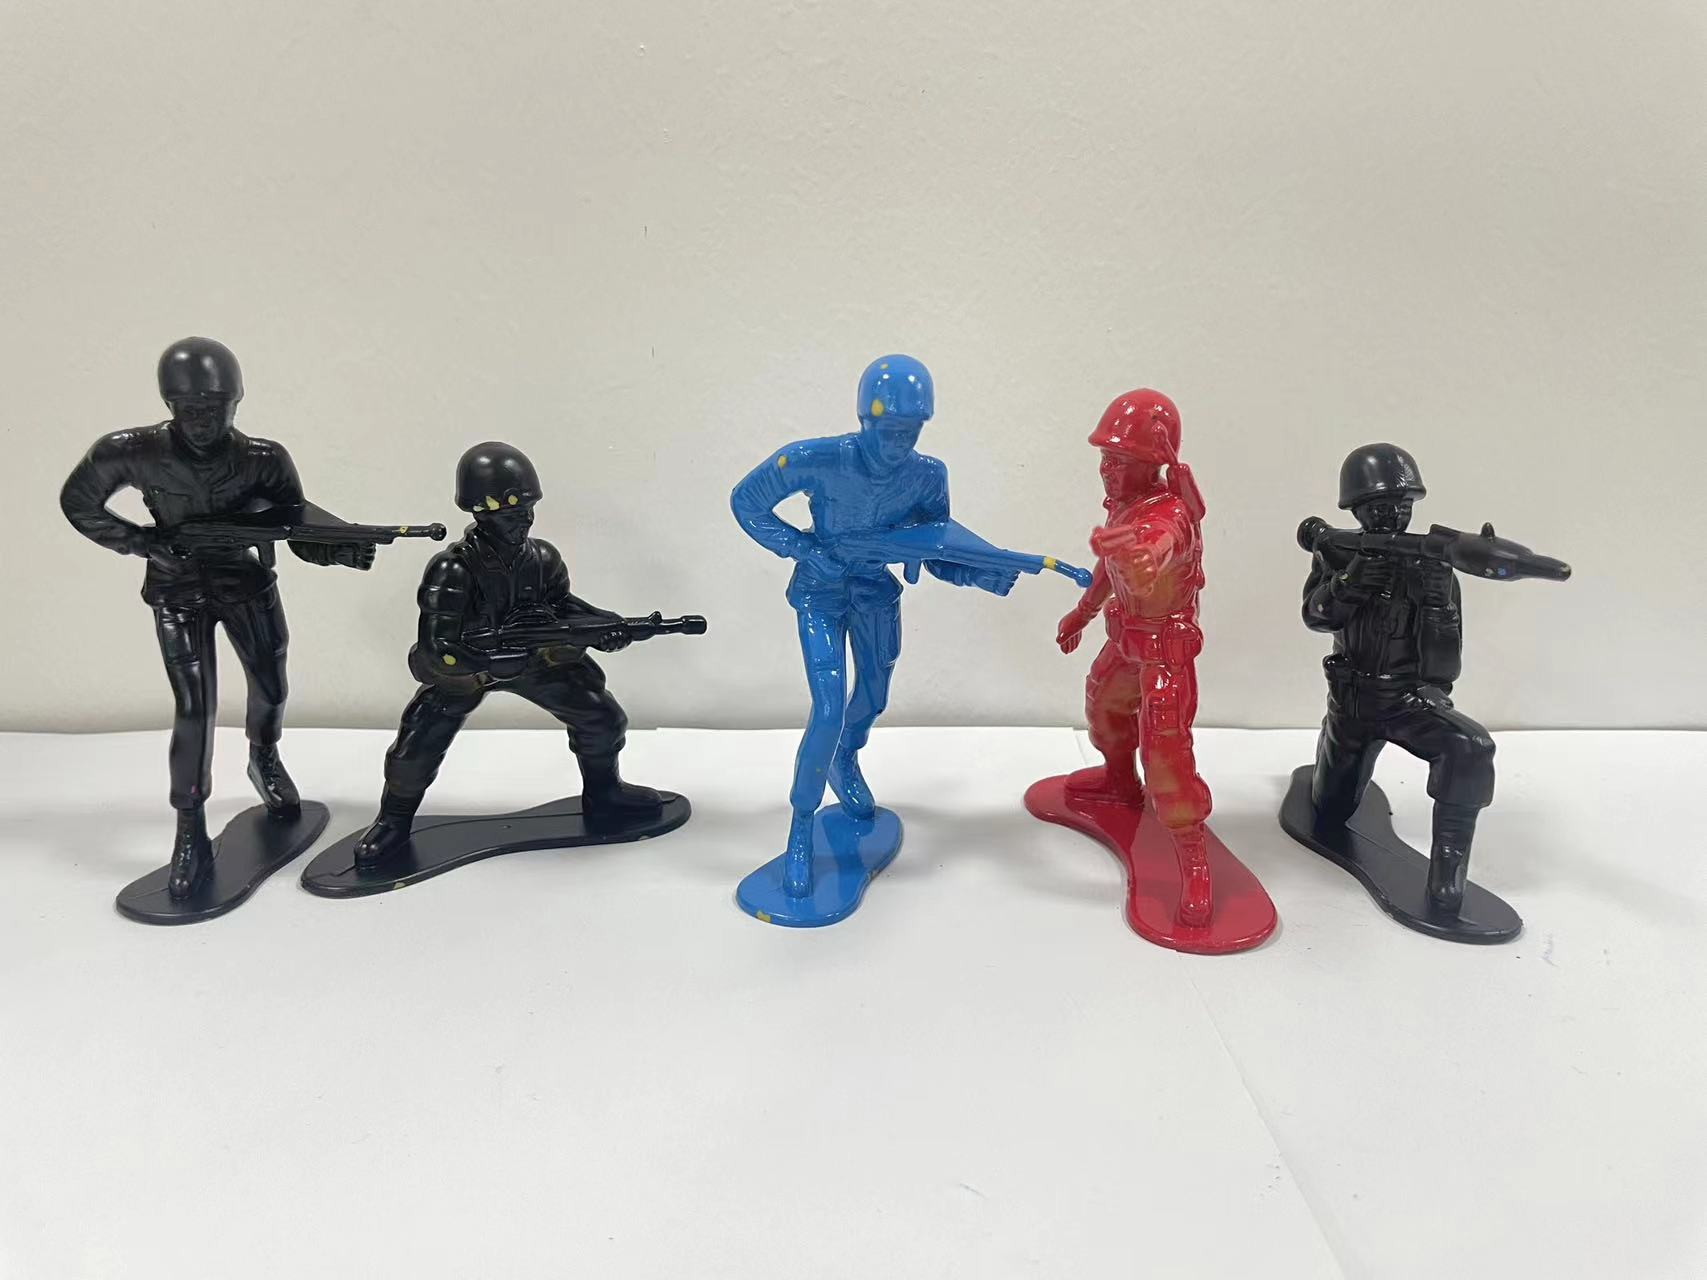black: (34, 298, 376, 948), (333, 415, 724, 945), (1251, 424, 1593, 987)
blue: (708, 307, 1023, 990)
red: (1038, 355, 1293, 1026)
